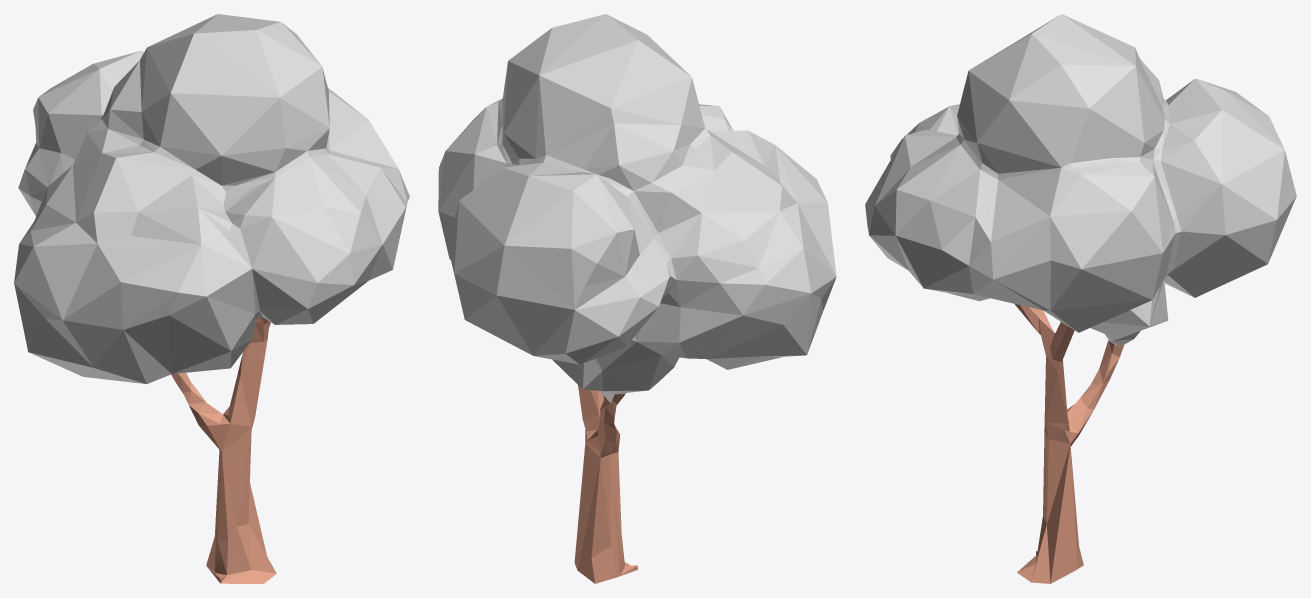
Rendered from tree1.fbx.
The picture shows the model from 3 angles, left to right: view 1: azimuth 30°, elevation 25°; view 2: azimuth 150°, elevation 25°; view 3: azimuth 270°, elevation 25°; orthographic projection.
Parts seen in each view (by area): view 1: 棱角球; view 2: 棱角球; view 3: 棱角球.
Part boxes in pixels (x1,y1,x2,y2): 棱角球: [14, 14, 409, 583]; 棱角球: [438, 14, 836, 583]; 棱角球: [865, 14, 1296, 583].
Bounding box in the file's own units: 1271 × 1821 × 1318.
